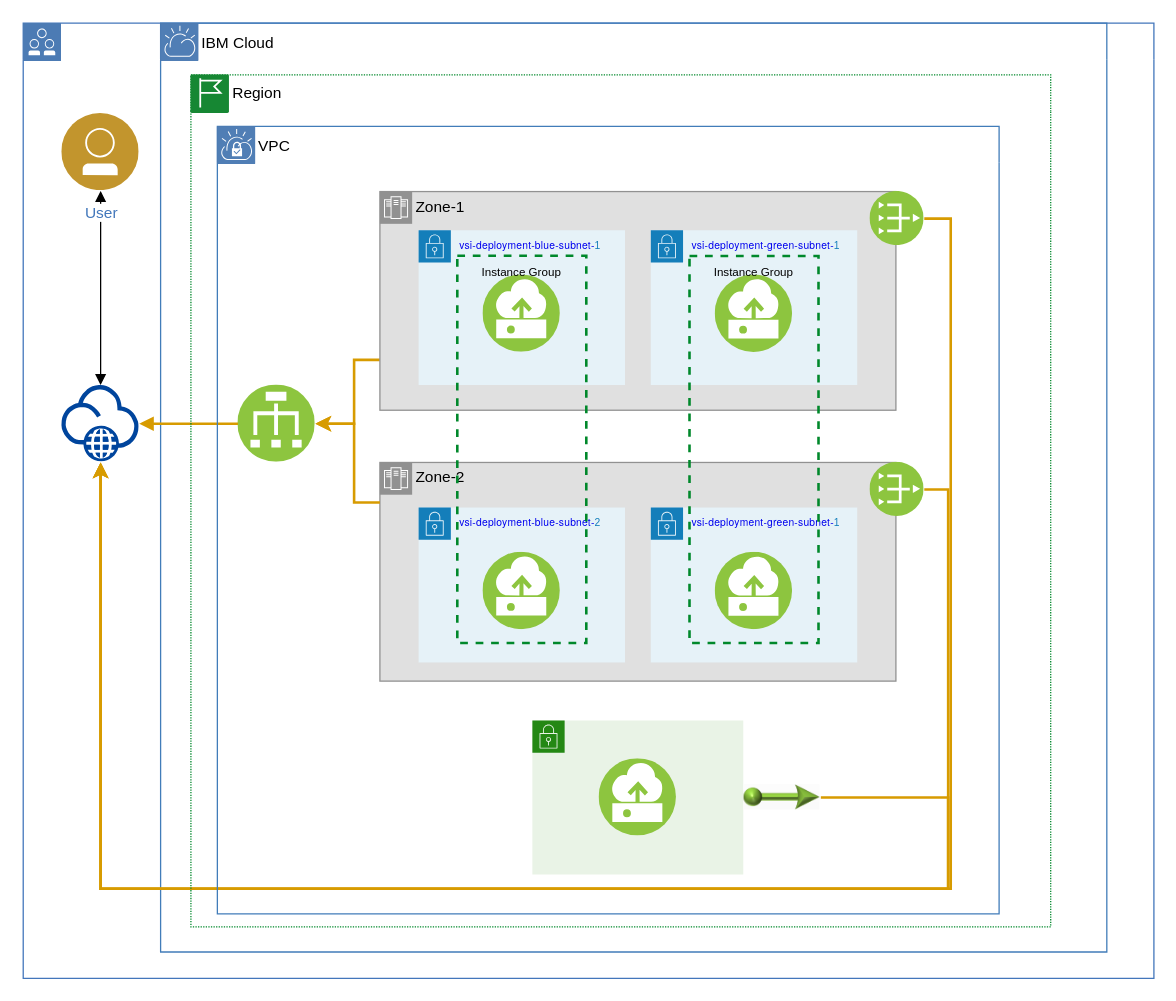
Some shapes in this 1176 by 1001 pixel diagram are drawn without their labels. The box of each missing label's shape, as (x1, y1, x2, y2) in pixels:
Internet: (61, 384, 139, 462)
Public Load Balancer: (237, 384, 315, 462)
Public Network: (23, 23, 61, 61)
vsi-deployment-bast-subnet-1: (531, 719, 743, 875)
